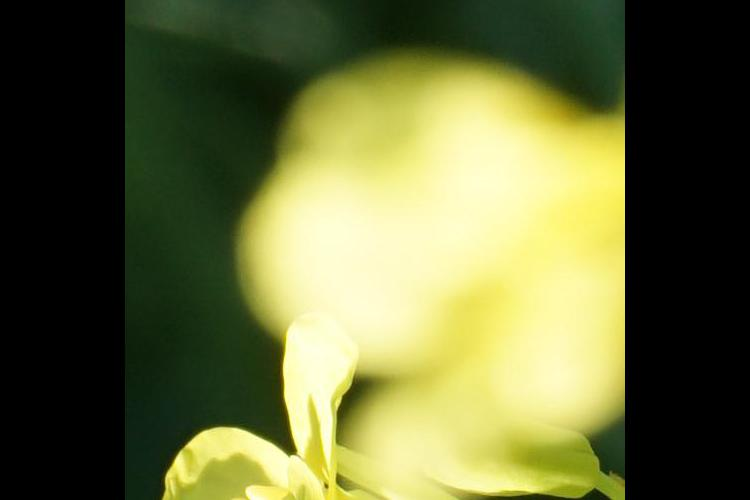yellow: (156, 324, 428, 500)
